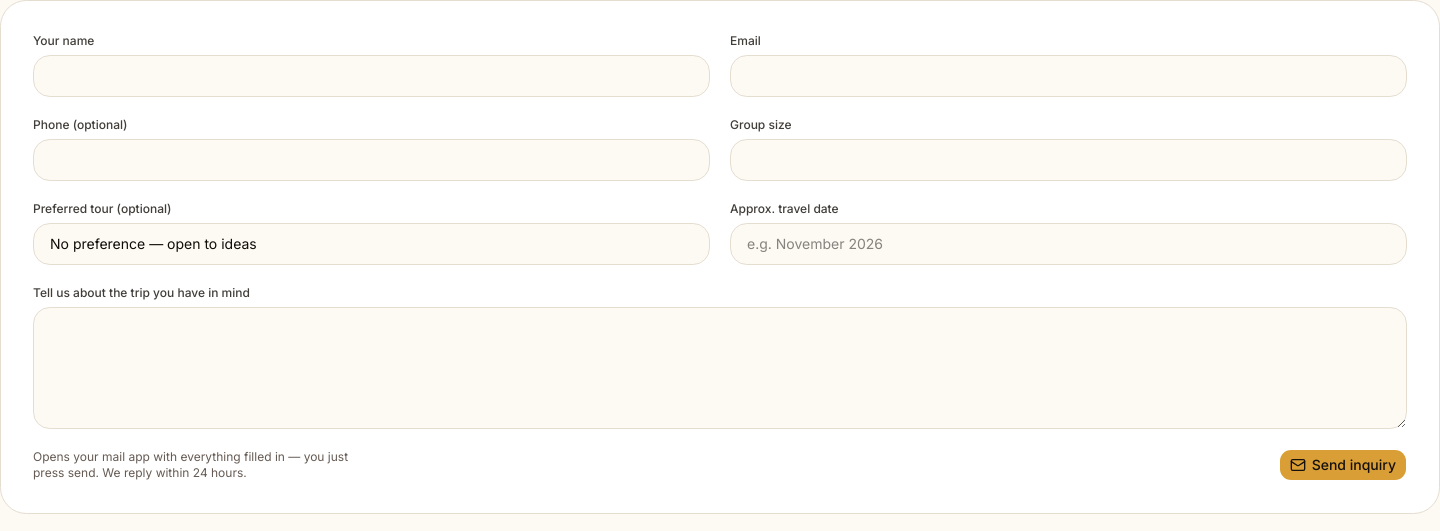
Test: <InquiryForm /> › tells the traveler the message still needs sending
The image size is (1440, 531).
Type "Jane Traveler" into the field labelled "Your name" at (372, 76), box [33, 55, 710, 97]
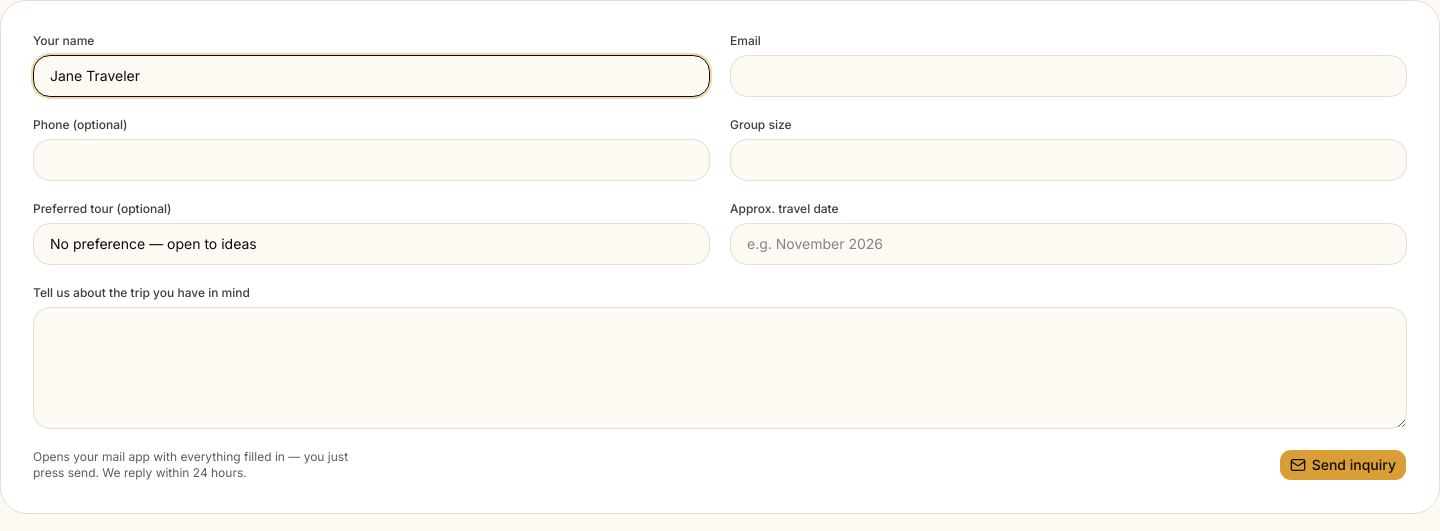
Type "jane@example.com" into the field labelled "Email" at (1068, 76), box [730, 55, 1407, 97]
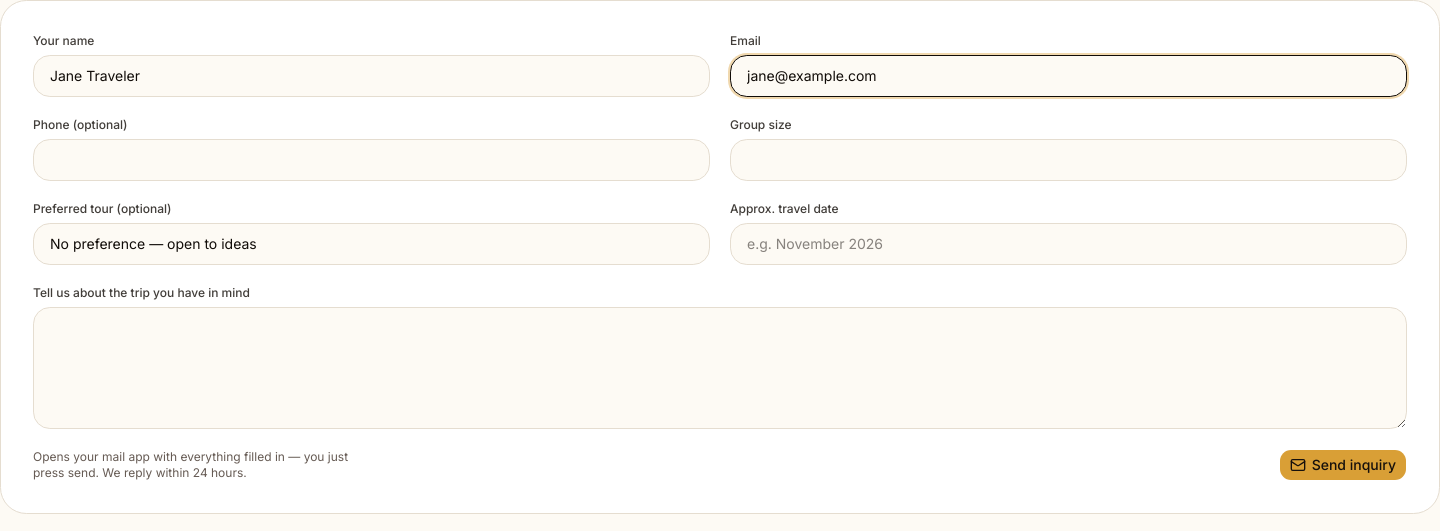
Type "I'd love to do Pendjari in March 2027 with a group of four." into the text box labelled "Tell us about the trip you have in mind" at (720, 368), box [33, 307, 1407, 429]
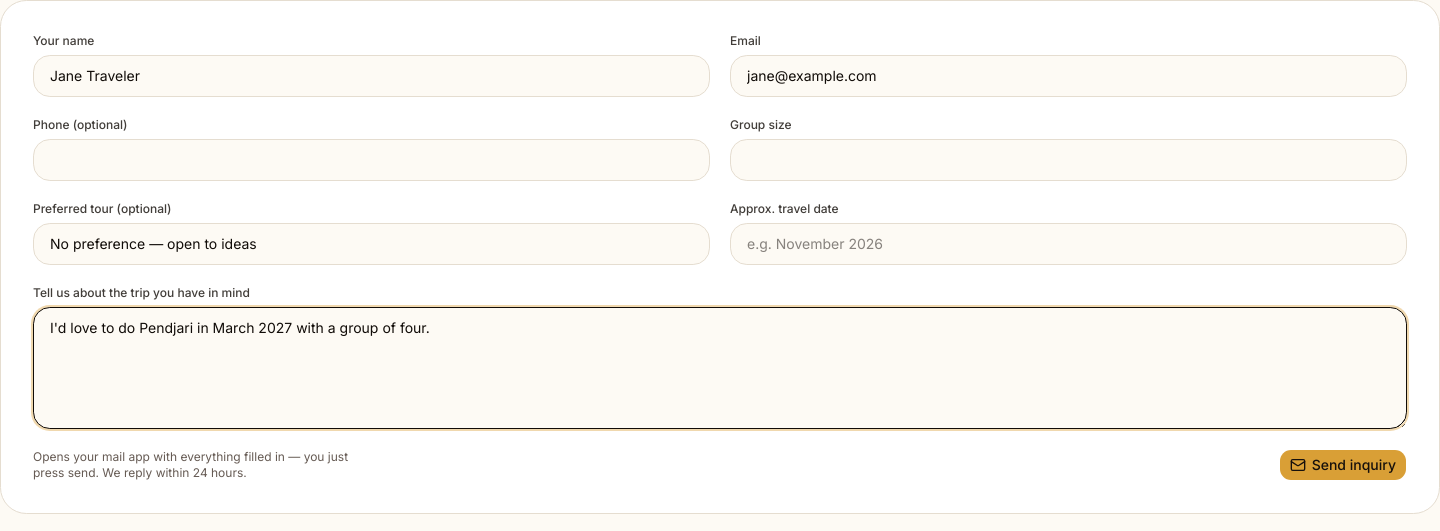
Click the button "Send inquiry" at (1343, 465), box [1279, 449, 1407, 481]
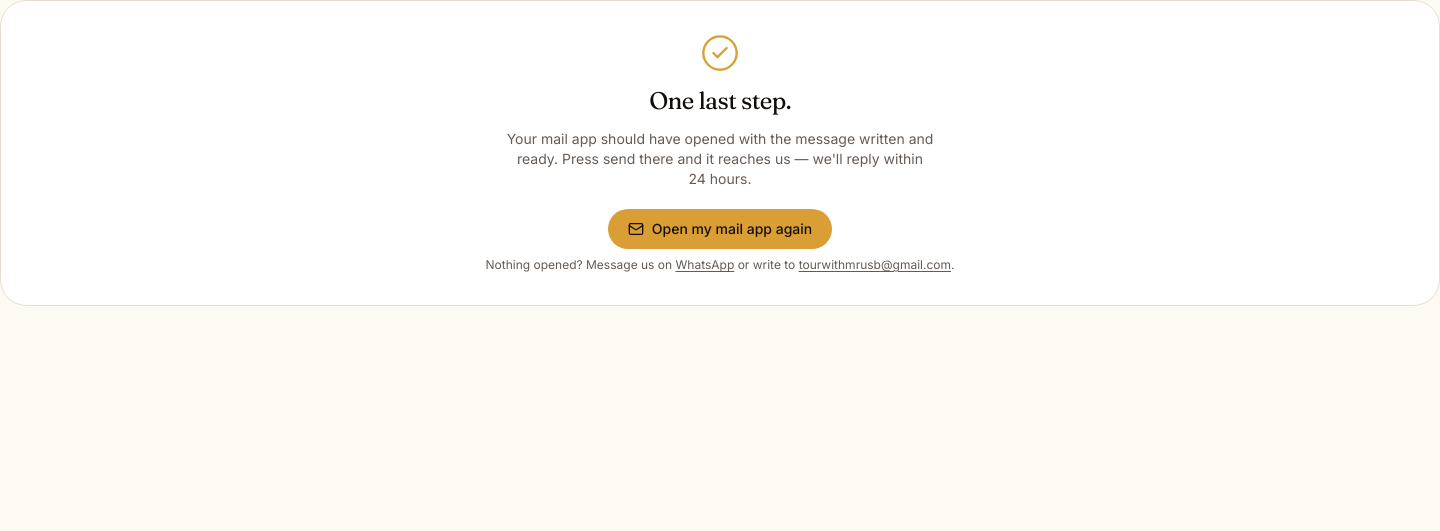
Check: the heading "One last step." is shown, box [649, 85, 791, 117]
Check: the text "press send there" is shown, box [507, 130, 933, 187]
Check: the link "Open my mail app again" is shown, box [608, 209, 832, 249]
